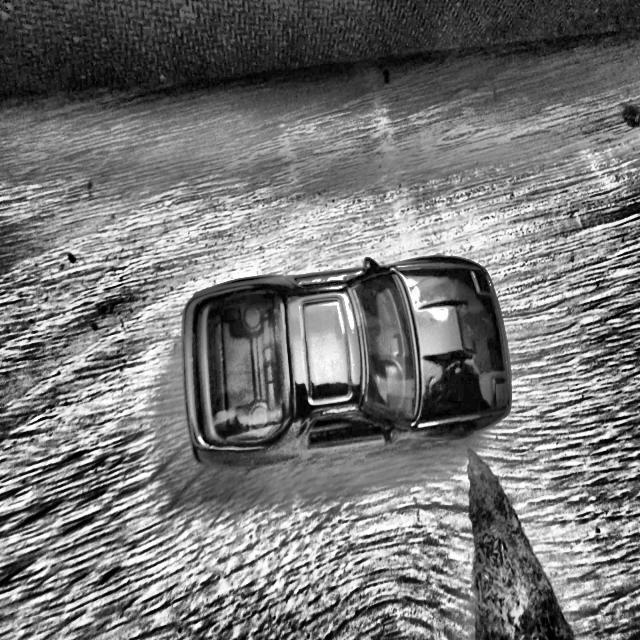car: (182, 254, 512, 469)
